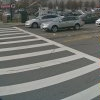crosswalk: (0, 30, 99, 100)
